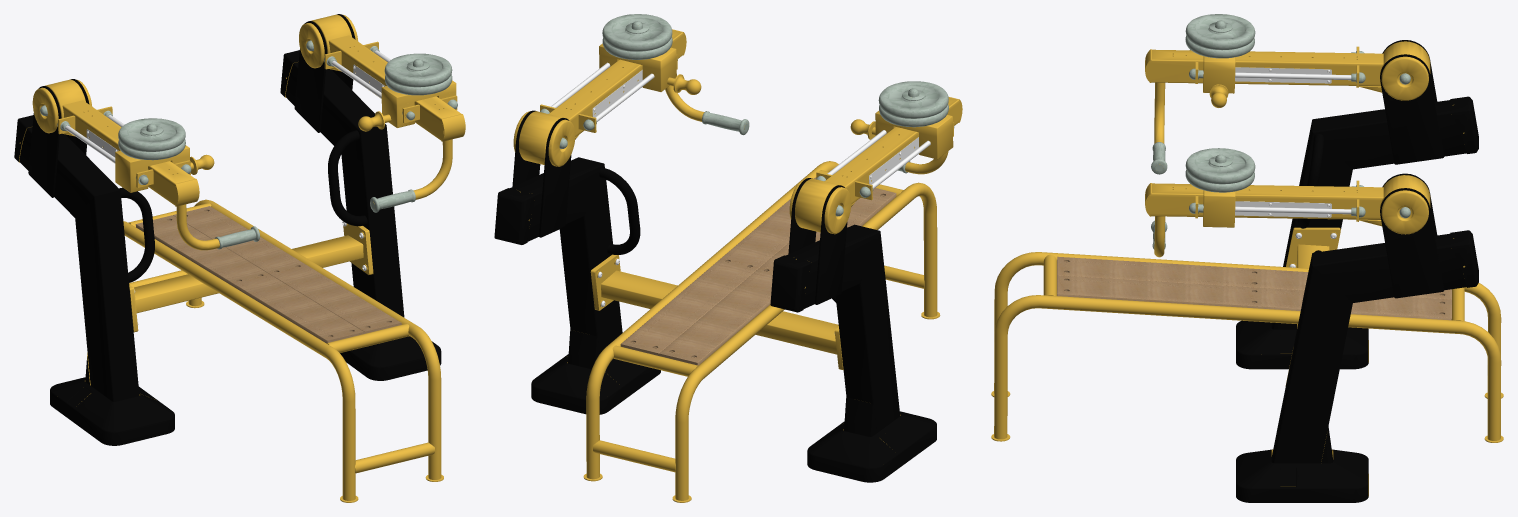
The picture shows the model from 3 angles, left to right: view 1: azimuth 30°, elevation 25°; view 2: azimuth 150°, elevation 25°; view 3: azimuth 270°, elevation 25°; orthographic projection. The views are drawn at different scales.
Parts seen in each view (by area): view 1: Geom3D (×4), Geom3D_009.STL#1; view 2: Geom3D (×4), Geom3D_009.STL#1; view 3: Geom3D (×4), Geom3D_009.STL#1.
Part boxes in pixels (<box>): Geom3D (×4): <box>14,14,457,445</box>; Geom3D_009.STL#1: <box>19,14,465,502</box>; Geom3D (×4): <box>494,14,954,482</box>; Geom3D_009.STL#1: <box>513,29,962,502</box>; Geom3D (×4): <box>1057,14,1478,502</box>; Geom3D_009.STL#1: <box>991,40,1503,495</box>.
Size of the model in its own units: 1.27 by 1.15 by 1.62.
Materials: 5 (2 with a texture image).
